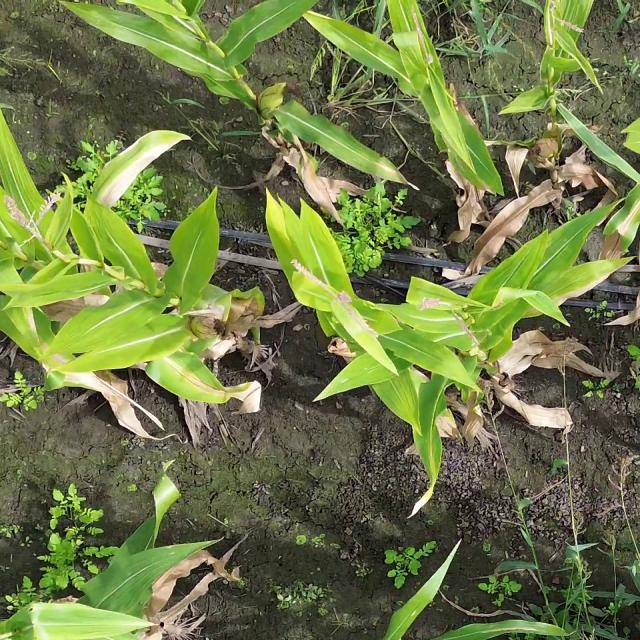northern-leaf-blight: (165, 356, 268, 425)
